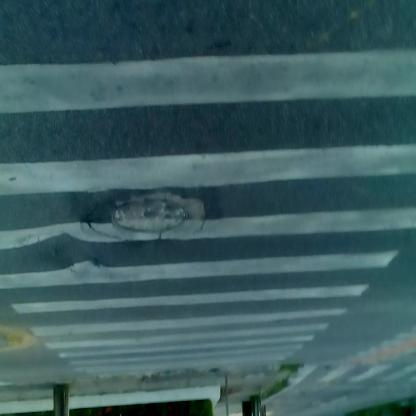crosswalk: (11, 3, 369, 353), (304, 326, 415, 402)
sidewalk: (2, 357, 297, 405)
